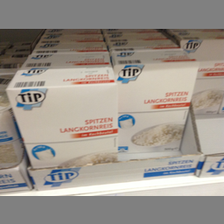rice: (5, 69, 119, 168), (110, 51, 199, 152), (177, 34, 224, 119)
